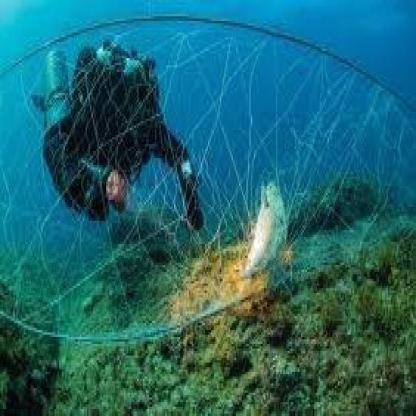net: (4, 21, 416, 346)
